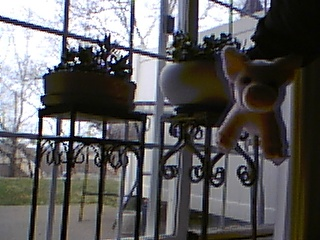piggy: (215, 44, 297, 161)
